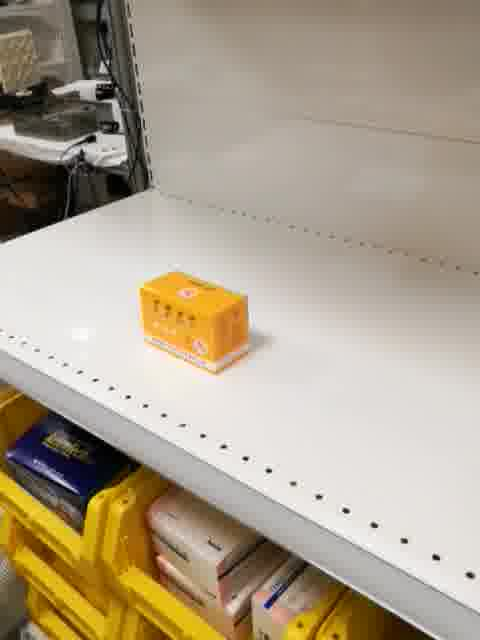jasminetea: (138, 270, 250, 375)
